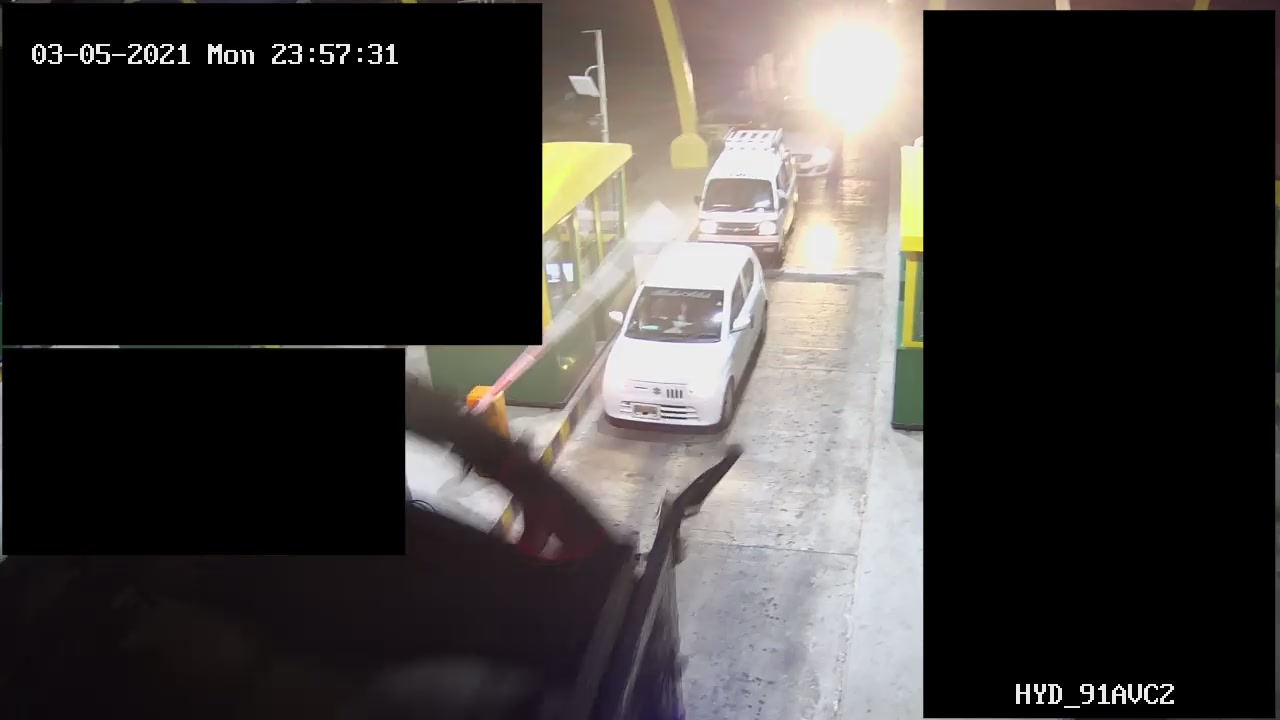F1: (598, 237, 764, 439)
